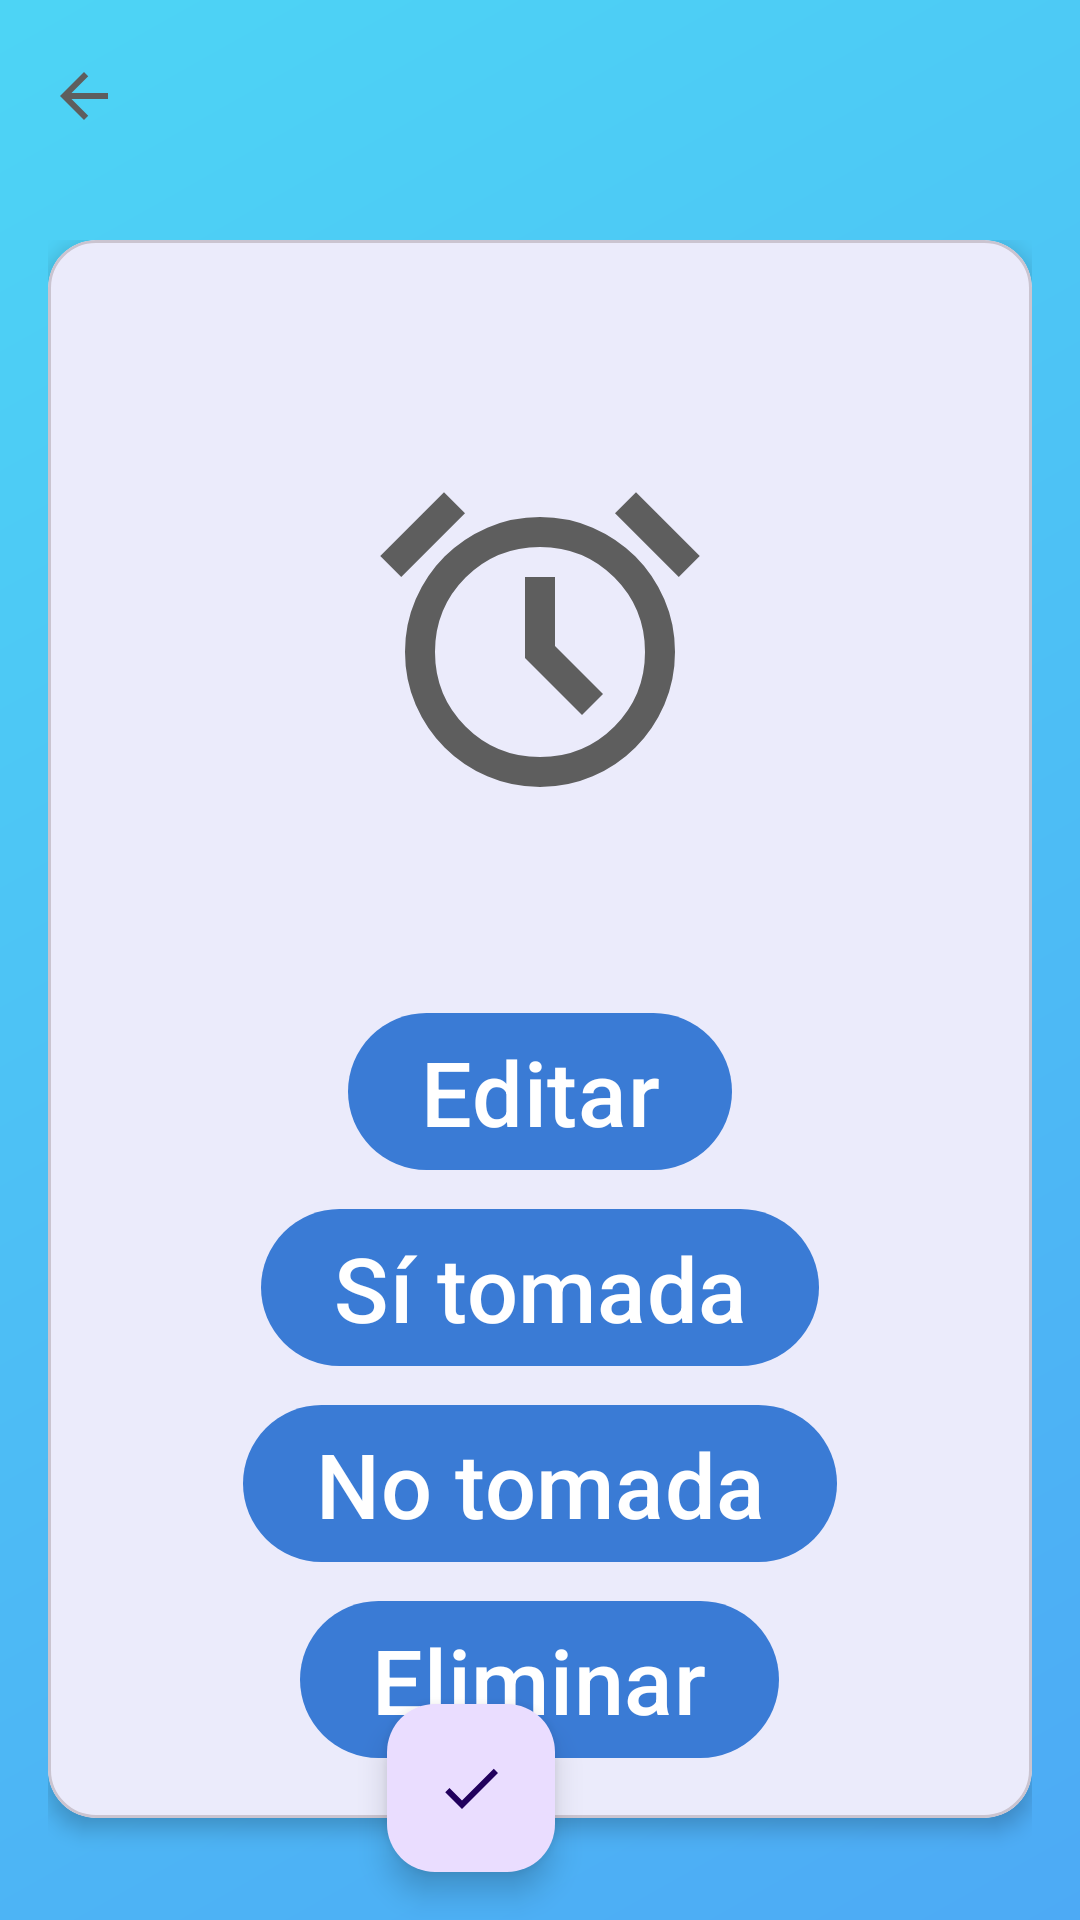

Screen size 1080px×1920px. Icon name, then its center in pixels as [x,y]:
alert: [540,639]
check: [471,1788]
